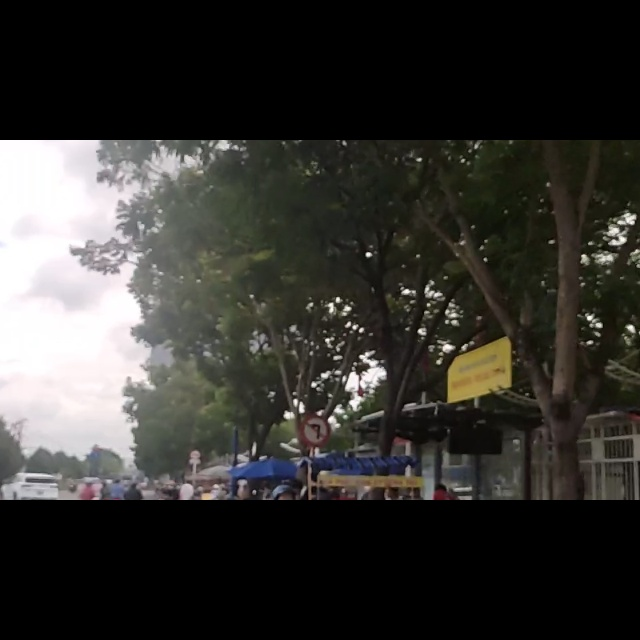bien_cam: (299, 488, 329, 544)
